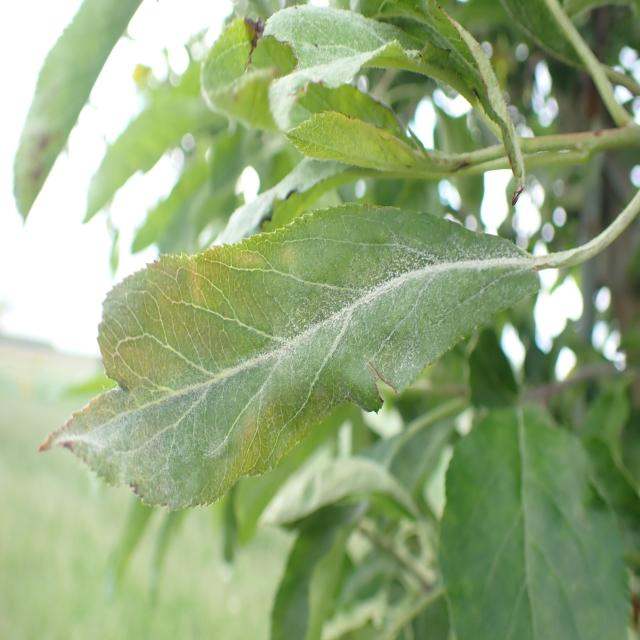Powdery_mildew: (56, 223, 534, 503)
